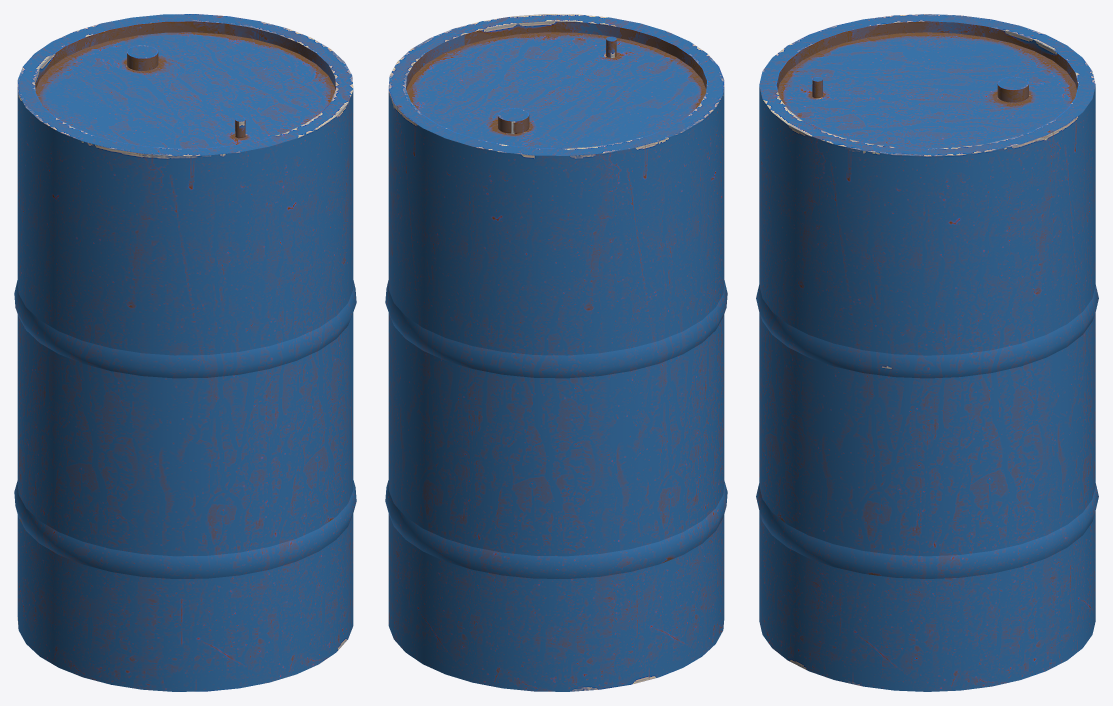
3 views of the same model, side by side, from view 1: azimuth 30°, elevation 25°; view 2: azimuth 150°, elevation 25°; view 3: azimuth 270°, elevation 25° (orthographic).
Parts seen in each view (by area): view 1: barrelblue; view 2: barrelblue; view 3: barrelblue.
Part boxes in pixels (x1=…): barrelblue: x1=14, y1=14, x2=356, y2=691; barrelblue: x1=385, y1=14, x2=727, y2=691; barrelblue: x1=756, y1=14, x2=1098, y2=691.
Size of the model in its own units: 204 by 355 by 204.
1 material, 1 textured.
